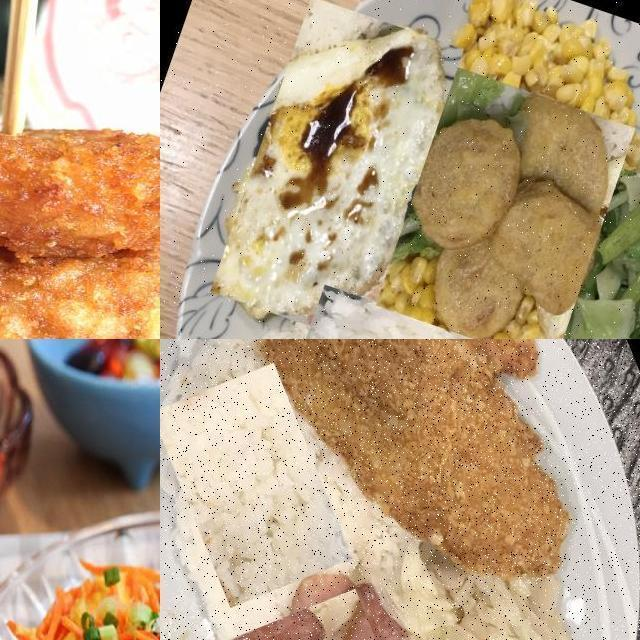Rice: (160, 362, 353, 609)
carrot_eggs: (0, 566, 160, 640)
chicken_nuggets: (374, 65, 635, 339)
chinese_cabbage: (377, 528, 589, 640)
chinese_sausage: (211, 562, 448, 640)
fried_chicken: (251, 339, 582, 640)
fried_eggs: (208, 0, 463, 339)
triangle_hash_brown: (0, 121, 160, 339)
